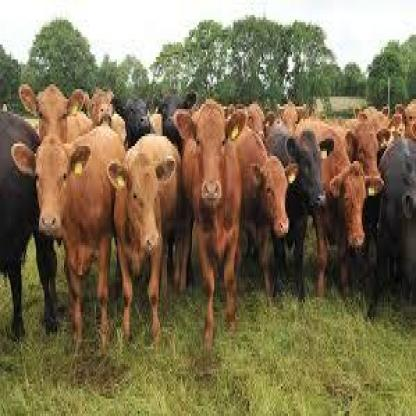cow: (12, 127, 126, 350), (174, 102, 250, 357), (296, 118, 384, 303), (107, 132, 181, 350), (233, 125, 297, 311), (269, 128, 333, 304), (19, 84, 94, 149), (111, 95, 152, 140)
